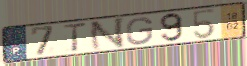5: (191, 7, 217, 41)
7: (29, 25, 56, 58)
9: (158, 12, 186, 43)
G: (125, 16, 155, 46)
N: (88, 16, 127, 53)
T: (61, 21, 89, 54)
